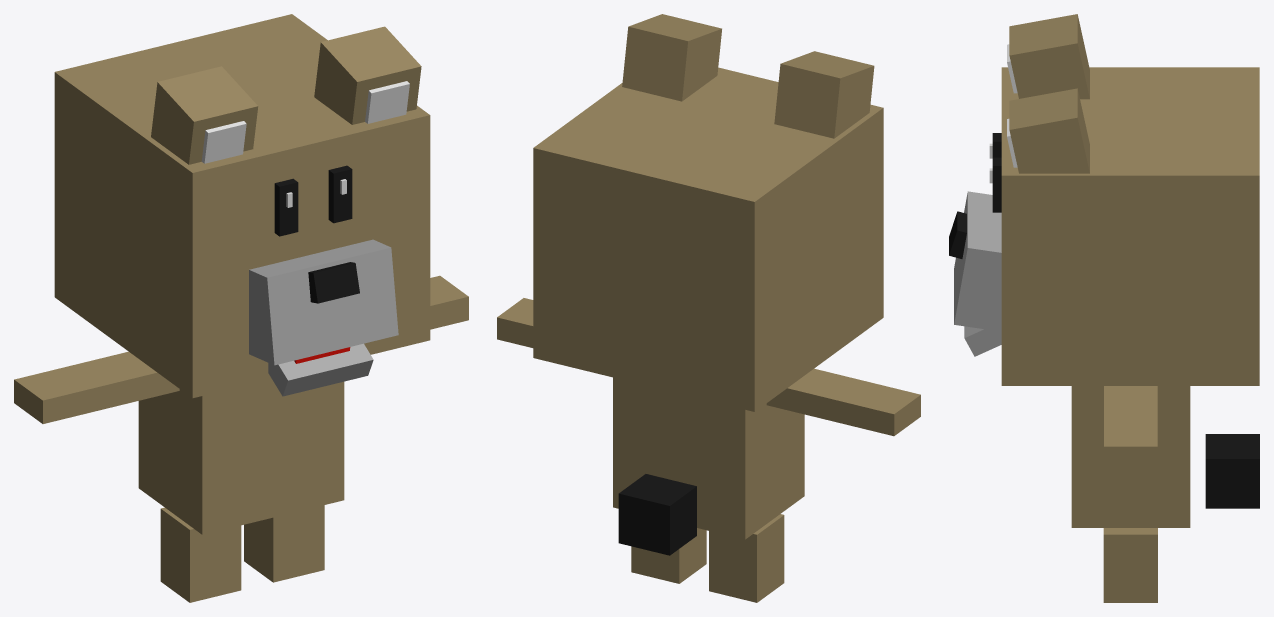
File: bear.fbx
3 views of the same model, side by side, from view 1: azimuth 30°, elevation 25°; view 2: azimuth 150°, elevation 25°; view 3: azimuth 270°, elevation 25° (orthographic). The views are drawn at different scales.
Visible parts, largest first — view 1: pCube1, pCube2, pCube10, pCube15, pCube17, pCube5, pCube20, pCube4, pCube13, pCube11, pCube14, pCube6 (+4 smaller); view 2: pCube1, pCube2, pCube17, pCube5, pCube15, pCube9, pCube20, pCube4, pCube14; view 3: pCube1, pCube2, pCube5, pCube17, pCube10, pCube14, pCube4, pCube9, pCube13, pCube11, pCube7.
Part boxes in pixels (<box>): pCube1: <box>54,14,430,398</box>; pCube2: <box>138,379,344,534</box>; pCube10: <box>249,239,398,365</box>; pCube15: <box>14,351,179,423</box>; pCube17: <box>151,66,258,164</box>; pCube5: <box>314,26,421,124</box>; pCube20: <box>160,507,241,602</box>; pCube4: <box>244,505,324,582</box>; pCube13: <box>268,343,373,396</box>; pCube11: <box>308,262,359,303</box>; pCube14: <box>430,275,468,329</box>; pCube6: <box>365,81,409,123</box>; pCube1: <box>533,67,883,411</box>; pCube2: <box>613,377,804,539</box>; pCube17: <box>774,51,874,138</box>; pCube5: <box>622,14,721,101</box>; pCube15: <box>766,368,920,436</box>; pCube9: <box>618,474,696,555</box>; pCube20: <box>709,514,784,602</box>; pCube4: <box>631,528,706,583</box>; pCube14: <box>497,298,533,347</box>; pCube1: <box>1001,67,1259,385</box>; pCube2: <box>1071,386,1190,527</box>; pCube5: <box>1009,88,1089,173</box>; pCube17: <box>1009,14,1089,99</box>; pCube10: <box>954,191,1001,331</box>; pCube14: <box>1104,386,1157,468</box>; pCube4: <box>1103,528,1157,602</box>; pCube9: <box>1205,434,1259,508</box>; pCube13: <box>964,326,1001,356</box>; pCube11: <box>949,211,966,258</box>; pCube7: <box>992,157,1001,212</box>.
Bounding box in the file's own units: 5.29 × 6.43 × 3.58.
